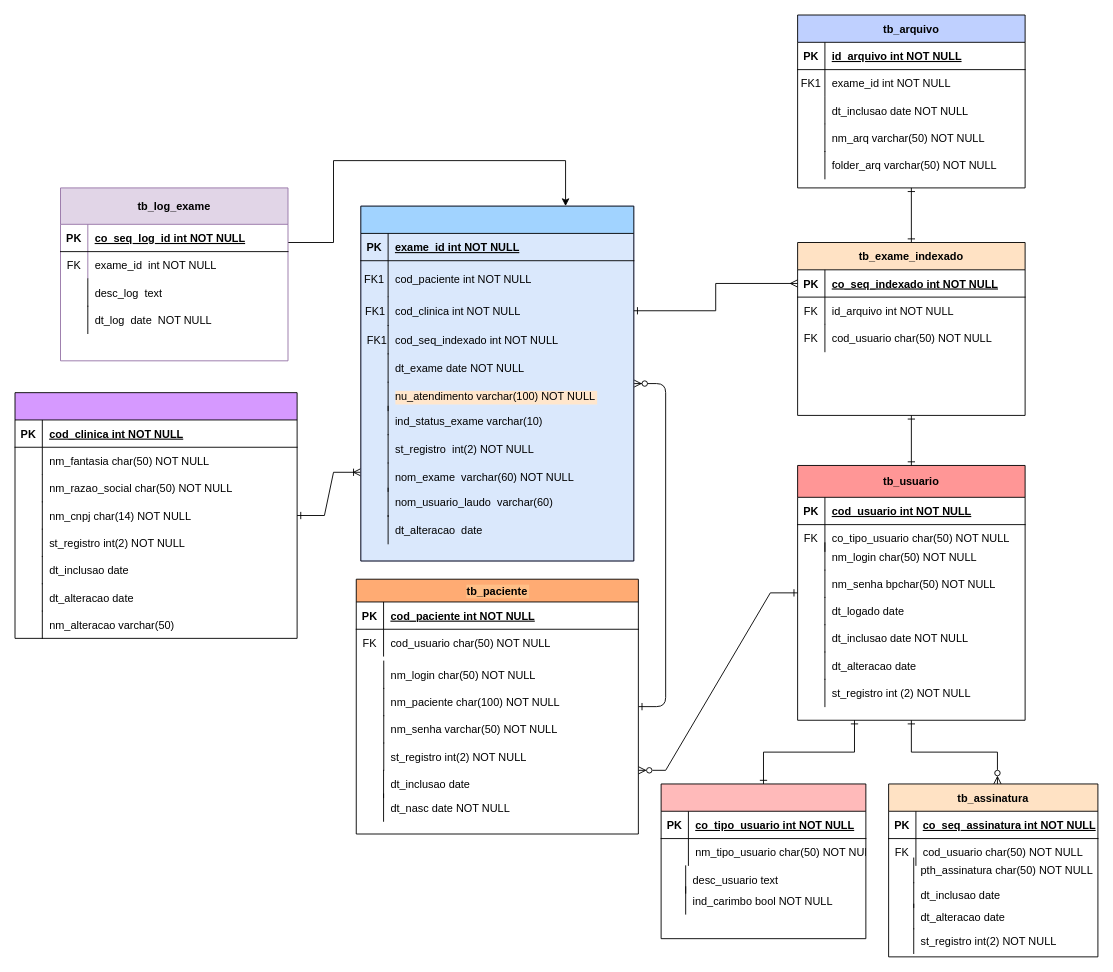
Some shapes in this 1113 by 972 pixel diagram are drawn without their labels. Each missing label, with the box of its shape:
tb_clinica: (14, 392, 297, 638)
tb_exame: (360, 205, 634, 561)
tb_tipo_usuario: (660, 783, 866, 939)
